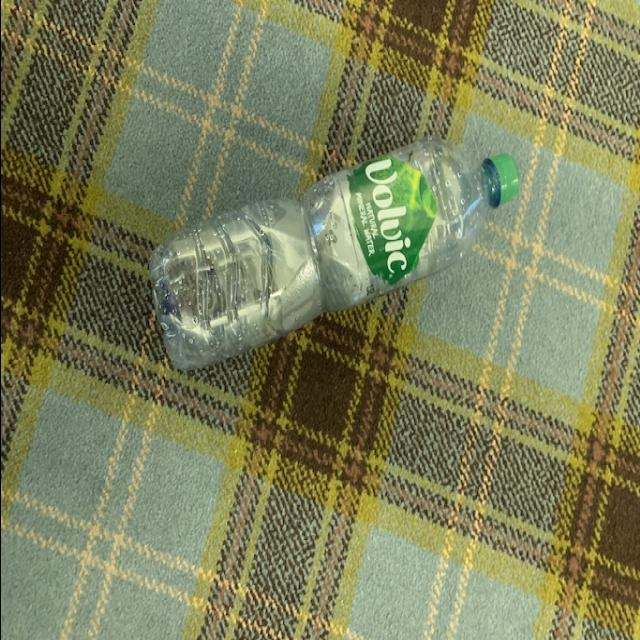litter: (145, 128, 520, 376)
